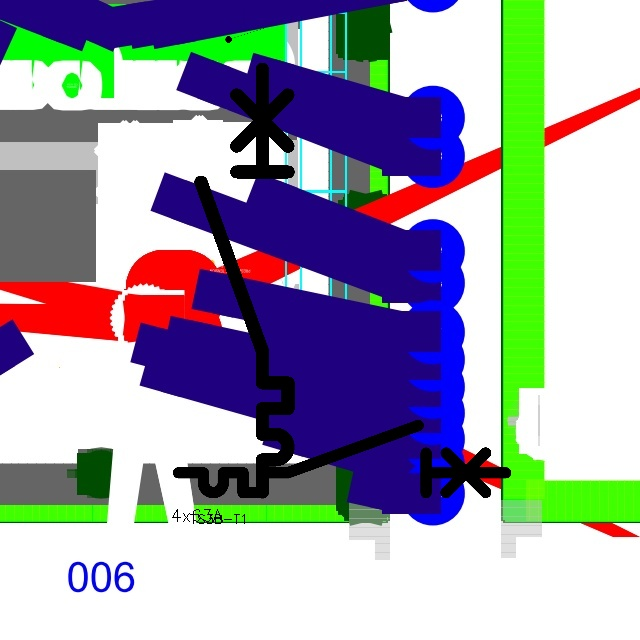interruptor_termomagnetico: (190, 58, 299, 503), (170, 417, 514, 501)
